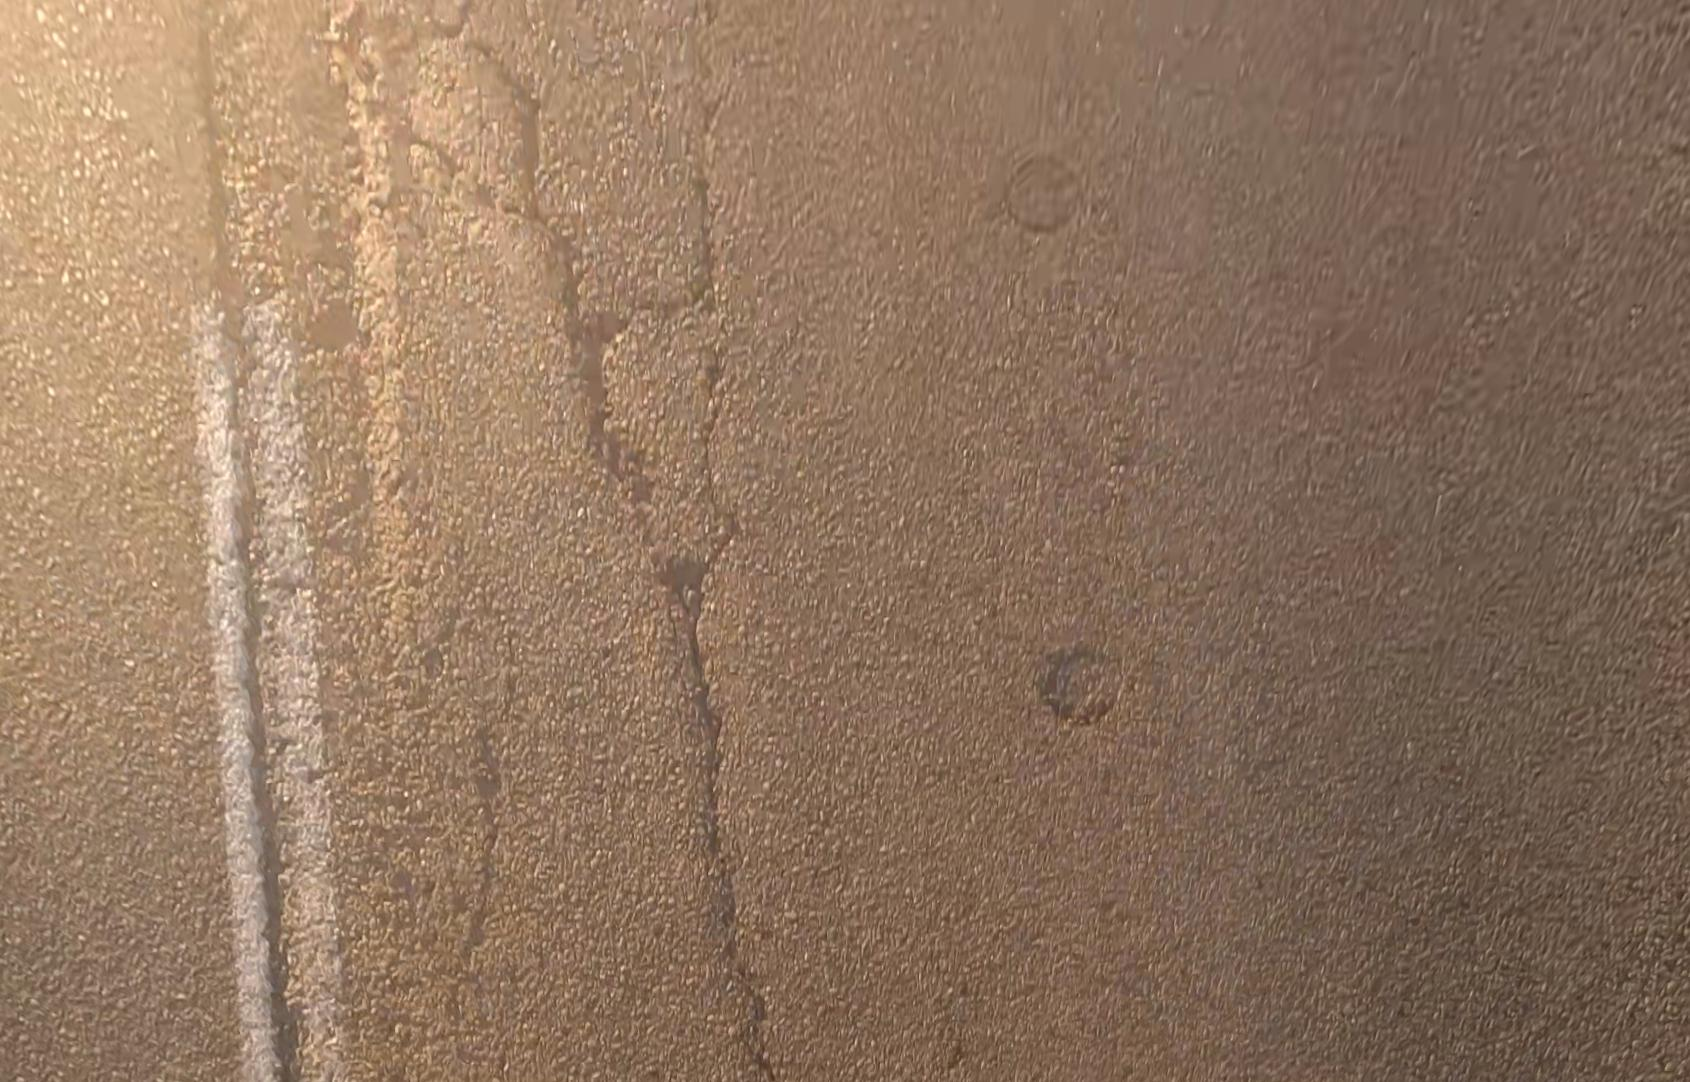pothole: (297, 1, 442, 211), (305, 297, 355, 349)
